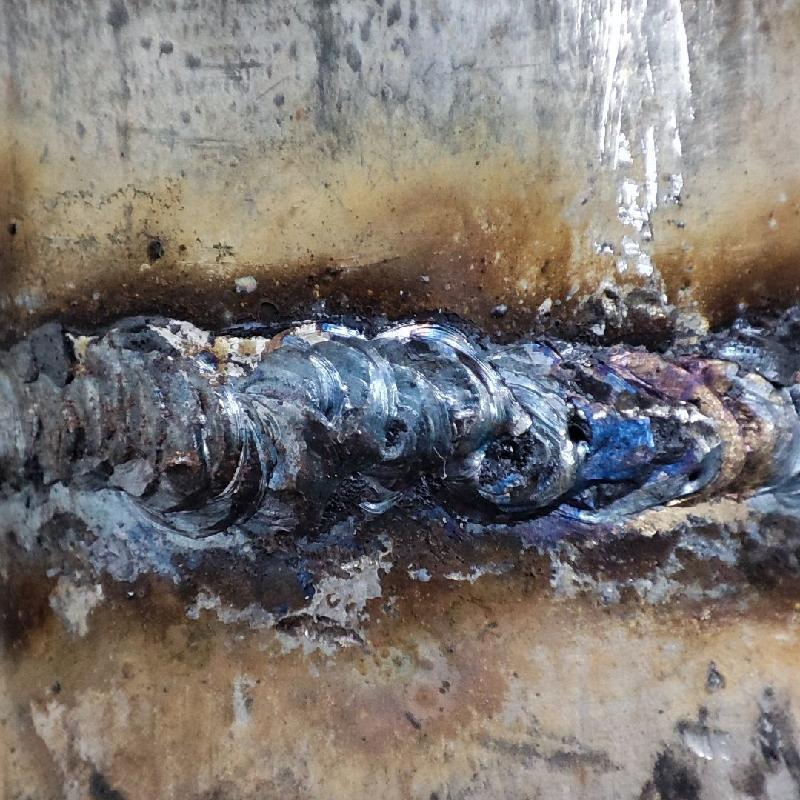Surface_pores: (542, 400, 610, 465), (673, 452, 718, 495)
good: (0, 311, 799, 538)
